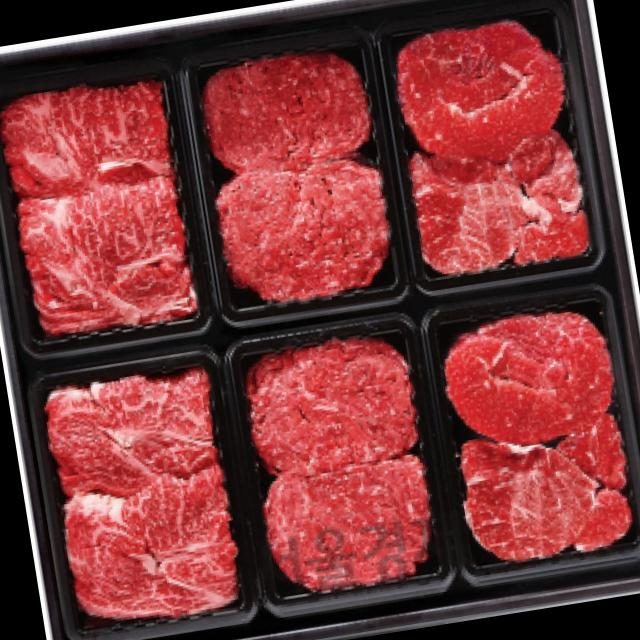beef: (44, 363, 245, 623), (5, 86, 195, 332), (393, 22, 578, 272), (454, 306, 636, 552), (228, 317, 424, 533), (209, 54, 384, 294)
